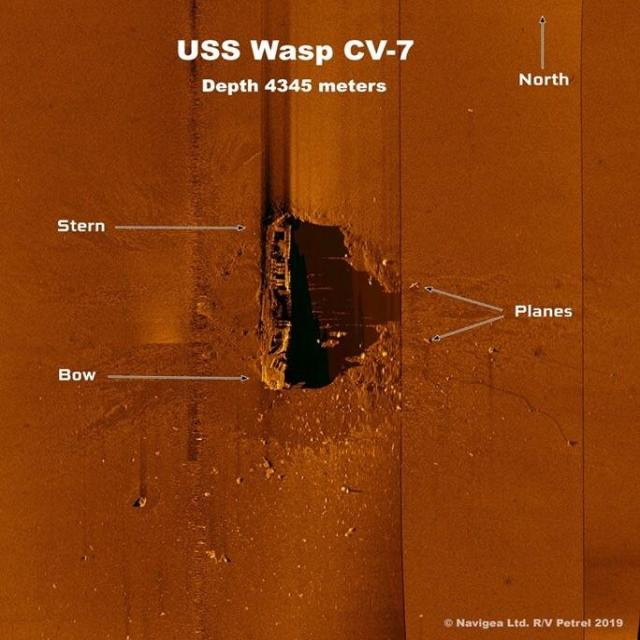ship: (255, 209, 302, 395)
